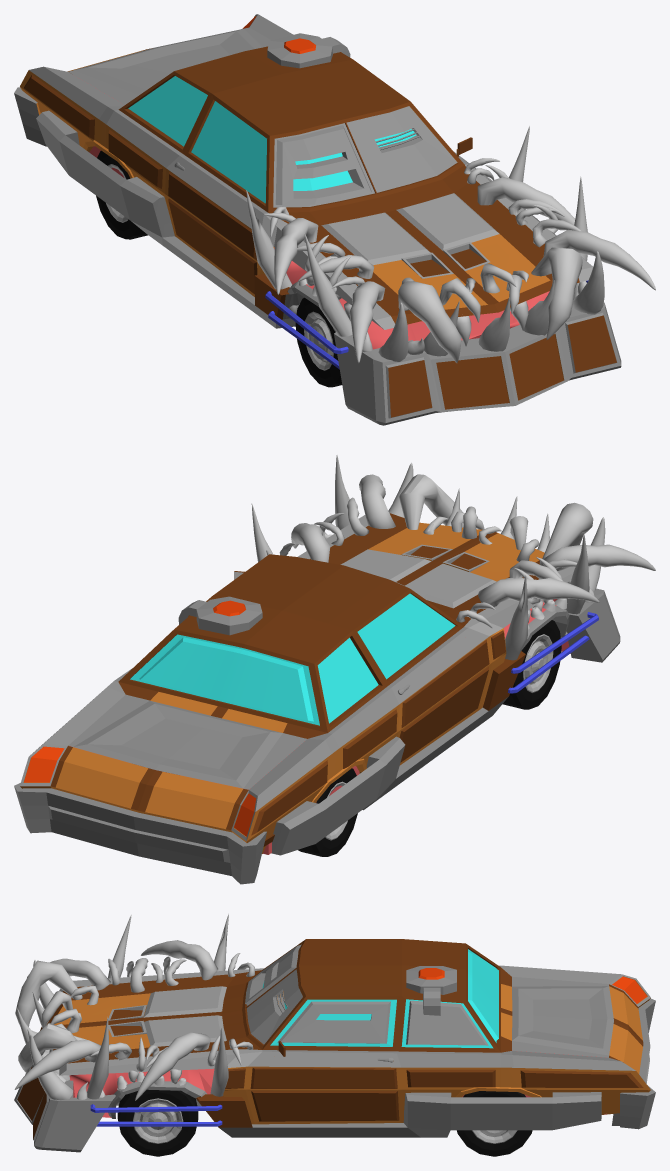
Rendered from monstercarv3.fbx.
The picture shows the model from 3 angles, top to bottom: view 1: azimuth 30°, elevation 25°; view 2: azimuth 150°, elevation 25°; view 3: azimuth 270°, elevation 25°; orthographic projection. The views are drawn at different scales.
Visible parts, largest first — view 1: monster-car, alt_agız, ust_agız, kaput, dıs-25, dıs-16, on_tekerler, dıs-26, dıs-33, dıs-3, dıs-14, arka_tekerler (+3 smaller); view 2: monster-car, ust_agız, kaput, alt_agız, on_tekerler, dıs-3, dıs-25, dıs-14, dıs-16, arka_tekerler, dıs-26, dıs-33 (+1 smaller); view 3: monster-car, alt_agız, ust_agız, kaput, on_tekerler, arka_tekerler, dıs-16, dıs-33, dıs-26, dıs-3, dıs-25, dıs-14 (+3 smaller).
Boxes of the visible parts, left/top/right/bottom form: monster-car: left=14, top=14, right=476, bottom=328; alt_agız: left=246, top=126, right=621, bottom=425; ust_agız: left=262, top=164, right=592, bottom=329; kaput: left=68, top=27, right=270, bottom=104; dıs-25: left=531, top=247, right=582, bottom=339; dıs-16: left=398, top=281, right=461, bottom=362; on_tekerler: left=295, top=297, right=342, bottom=387; dıs-26: left=543, top=229, right=655, bottom=290; dıs-33: left=477, top=177, right=575, bottom=225; dıs-3: left=274, top=218, right=318, bottom=294; dıs-14: left=349, top=281, right=385, bottom=363; arka_tekerler: left=96, top=150, right=147, bottom=239; monster-car: left=14, top=554, right=508, bottom=884; ust_agız: left=298, top=474, right=590, bottom=636; kaput: left=68, top=694, right=306, bottom=789; alt_agız: left=251, top=455, right=620, bottom=710; on_tekerler: left=502, top=620, right=561, bottom=709; dıs-3: left=478, top=578, right=599, bottom=607; dıs-25: left=399, top=474, right=463, bottom=529; dıs-14: left=539, top=544, right=655, bottom=570; dıs-16: left=542, top=502, right=593, bottom=558; arka_tekerler: left=298, top=768, right=357, bottom=856; dıs-26: left=359, top=474, right=395, bottom=528; dıs-33: left=291, top=523, right=330, bottom=562; monster-car: left=199, top=939, right=655, bottom=1137; alt_agız: left=14, top=913, right=252, bottom=1152; ust_agız: left=46, top=968, right=262, bottom=1075; kaput: left=512, top=976, right=613, bottom=1057; on_tekerler: left=117, top=1089, right=198, bottom=1156; arka_tekerler: left=457, top=1091, right=532, bottom=1156; dıs-16: left=15, top=960, right=82, bottom=1026; dıs-33: left=135, top=1032, right=210, bottom=1100; dıs-26: left=14, top=1040, right=100, bottom=1089; dıs-3: left=140, top=940, right=217, bottom=980; dıs-25: left=18, top=1023, right=76, bottom=1073; dıs-14: left=27, top=958, right=110, bottom=990.
Size of the model in its own units: 244 by 139 by 526.
